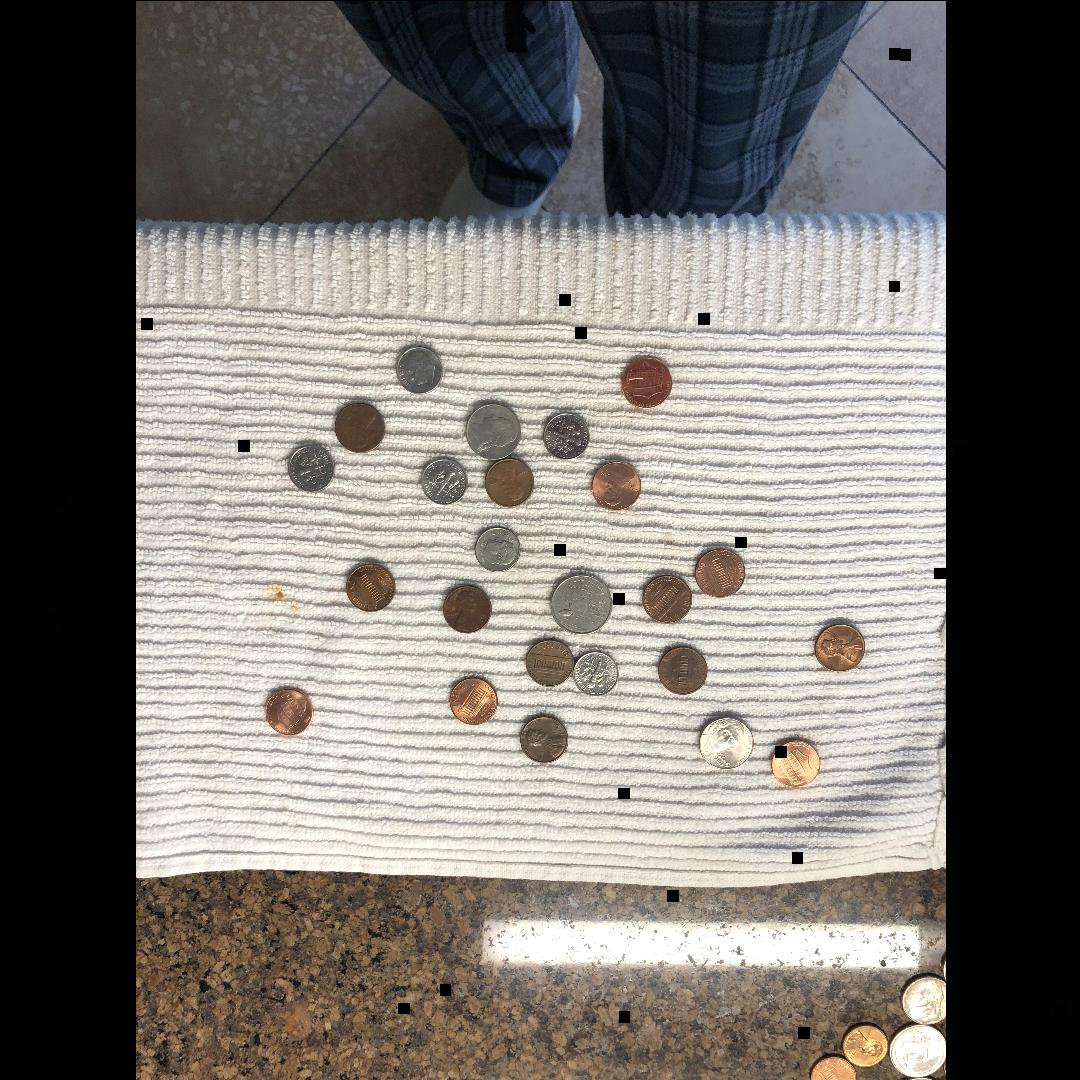Dime: (391, 340, 443, 396), (417, 454, 470, 508), (282, 440, 335, 494), (540, 409, 590, 459), (473, 522, 521, 574), (572, 647, 620, 698)
Nickel: (463, 393, 519, 463), (693, 708, 753, 772)
Penny: (259, 681, 317, 737), (616, 352, 672, 408), (653, 639, 708, 696), (588, 455, 642, 513), (516, 708, 570, 766), (332, 396, 384, 456), (444, 672, 501, 726), (636, 570, 691, 625), (691, 541, 743, 599), (440, 581, 492, 639), (345, 556, 396, 614), (812, 618, 864, 674), (482, 454, 534, 510), (770, 736, 822, 790), (522, 635, 574, 689)
Quarter: (546, 566, 612, 634)
